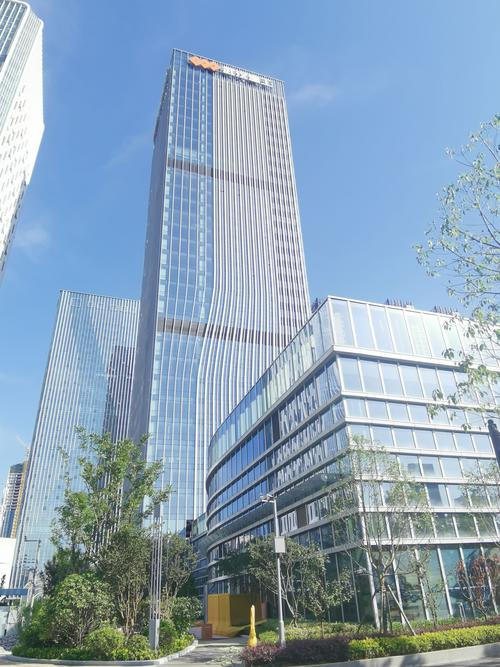buildings: (98, 125, 459, 648), (109, 83, 344, 449)
